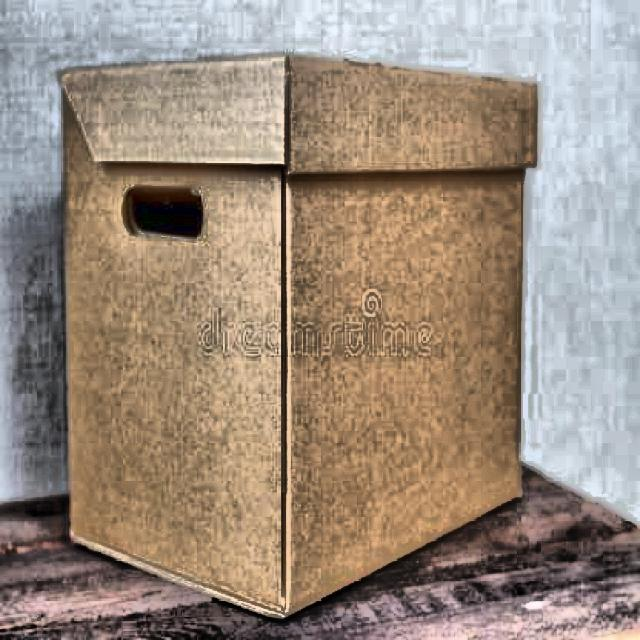Cardbox: (40, 49, 558, 625)
